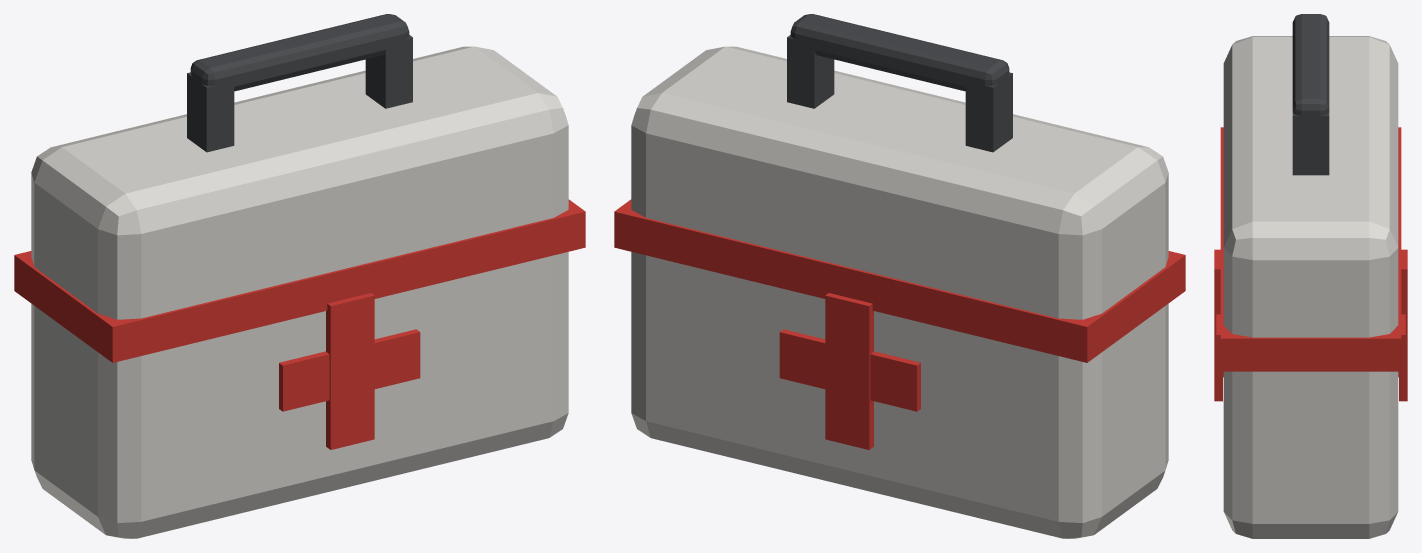
File: ZR_Medkit.fbx
3 renders of one model, left to right at view 1: azimuth 30°, elevation 25°; view 2: azimuth 150°, elevation 25°; view 3: azimuth 270°, elevation 25°, orthographic. The views are drawn at different scales.
Visible parts, largest first — view 1: ZR_Medkit; view 2: ZR_Medkit; view 3: ZR_Medkit.
Boxes of the visible parts, bbox=[...] form: ZR_Medkit: bbox=[14, 14, 585, 538]; ZR_Medkit: bbox=[614, 14, 1185, 538]; ZR_Medkit: bbox=[1214, 14, 1407, 538].
Bounding box in the file's own units: 0.344 × 0.295 × 0.133.
